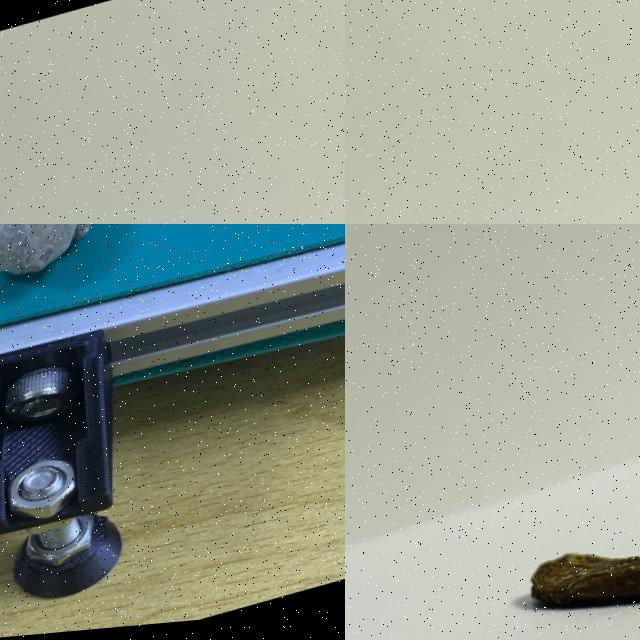Agglomerated_cocoabeans: (0, 224, 156, 337), (38, 172, 344, 223), (345, 170, 625, 223)
Flat_cocoabeans: (375, 428, 639, 639)
